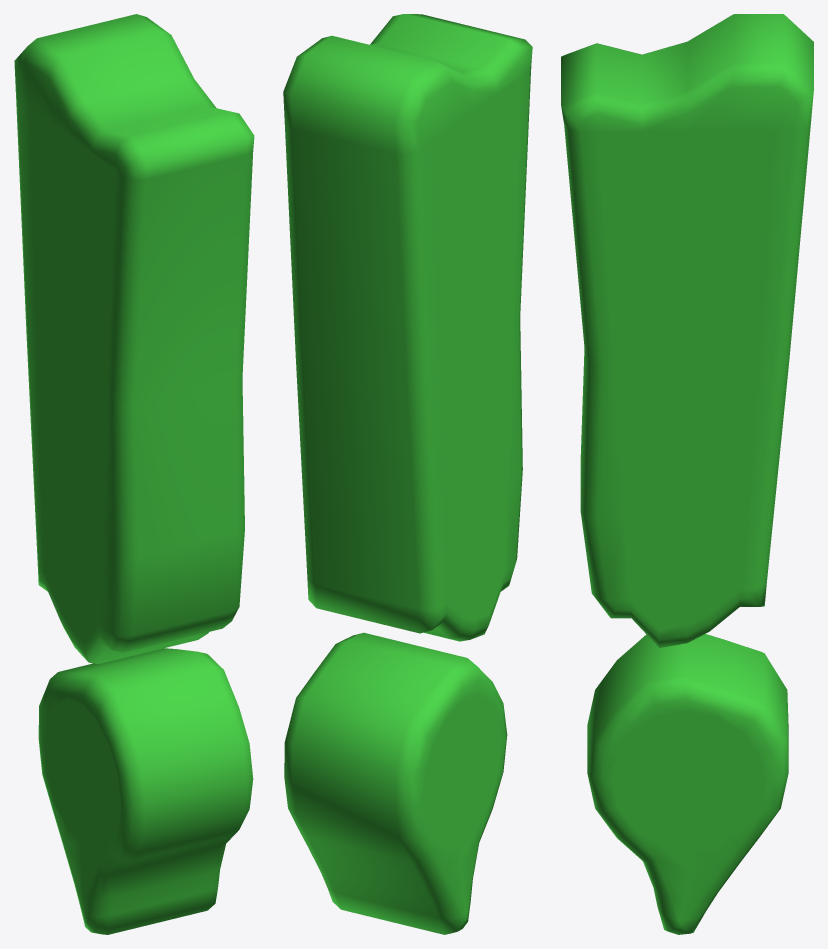
The model's file is PointMark.fbx.
The picture shows the model from 3 angles, left to right: view 1: azimuth 30°, elevation 25°; view 2: azimuth 150°, elevation 25°; view 3: azimuth 270°, elevation 25°; orthographic projection. The views are drawn at different scales.
Parts seen in each view (by area): view 1: Plane; view 2: Plane; view 3: Plane.
Boxes of the visible parts, x1,y1,x2,y2 form: Plane: (14, 14, 254, 934); Plane: (283, 14, 532, 934); Plane: (561, 14, 813, 934).
Bounding box in the file's own units: 3.17 × 18.73 × 4.96.
